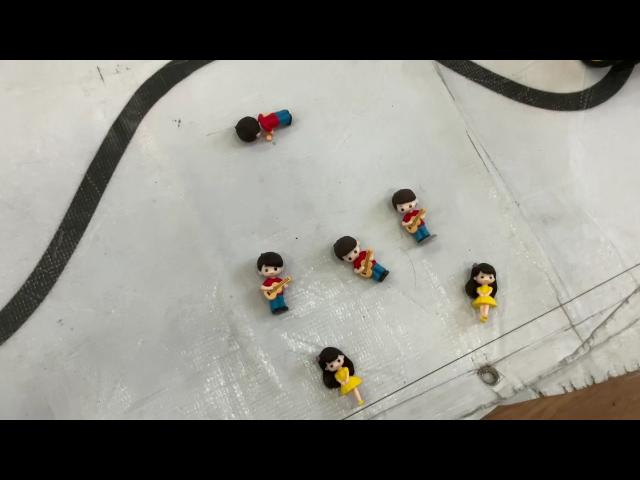man: (332, 233, 392, 283), (390, 187, 438, 247), (255, 250, 293, 318), (232, 109, 294, 147)
woman: (318, 344, 368, 408), (462, 259, 504, 324)
